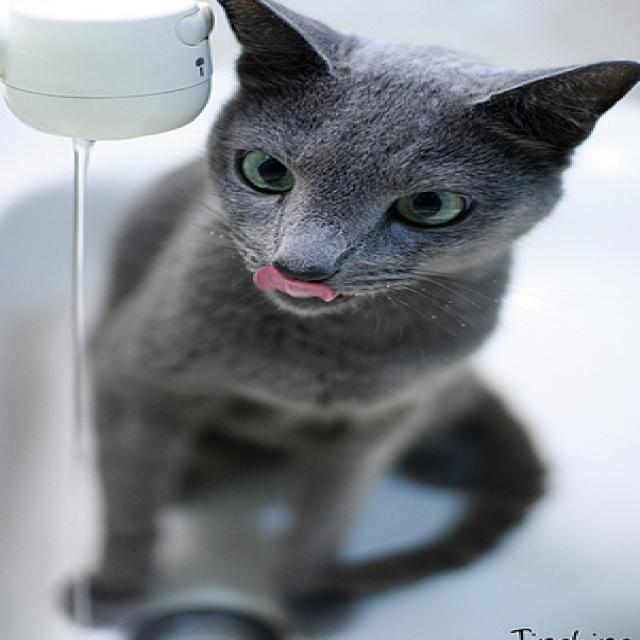Russian Blue: (53, 0, 640, 633)
